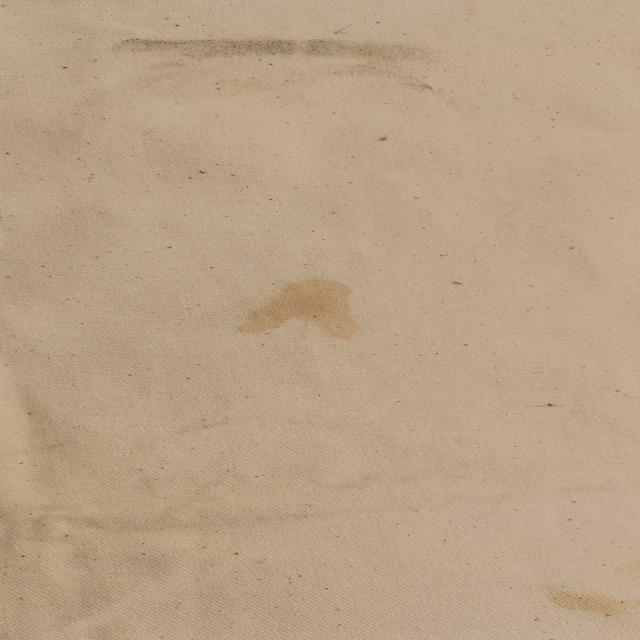taaaches: (89, 19, 502, 83), (216, 264, 397, 360), (543, 580, 640, 622)
